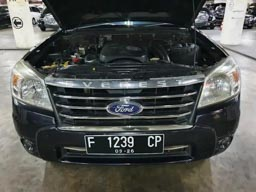plat: (84, 135, 162, 148)
